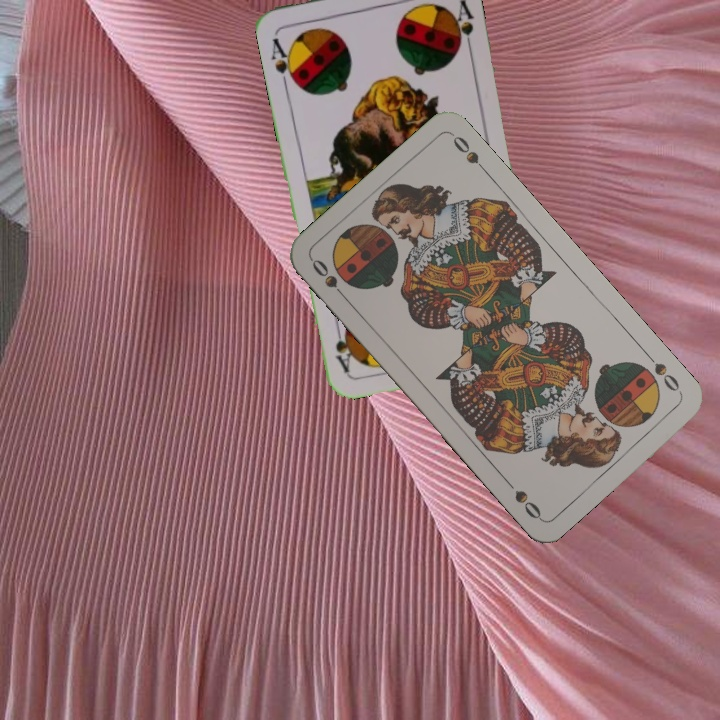SA: (267, 33, 300, 90)
SO: (307, 254, 351, 304), (641, 348, 685, 397)
